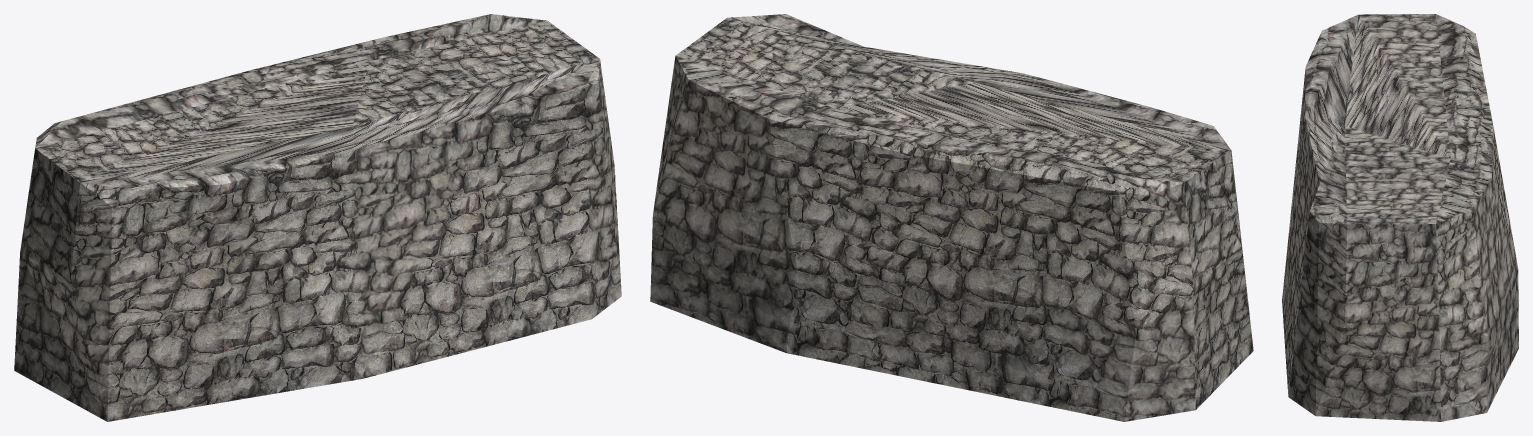
The model's file is StoneWall_1_LOD34.fbx.
The picture shows the model from 3 angles, left to right: view 1: azimuth 30°, elevation 25°; view 2: azimuth 150°, elevation 25°; view 3: azimuth 270°, elevation 25°; orthographic projection. The views are drawn at different scales.
Visible parts, largest first — view 1: Stone; view 2: Stone; view 3: Stone.
Boxes of the visible parts, <box> form: Stone: <box>14,14,621,421</box>; Stone: <box>650,14,1253,421</box>; Stone: <box>1282,14,1518,421</box>.
Size of the model in its own units: 1417 by 628 by 565.
Materials: 1 (1 with a texture image).
